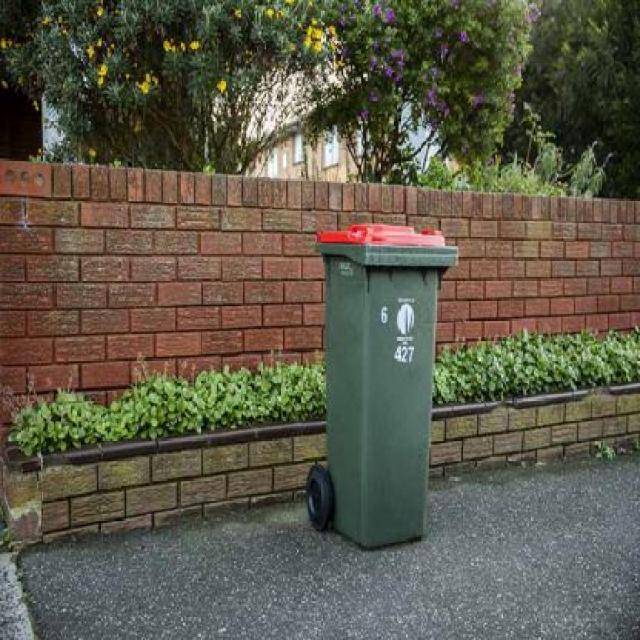garbage container: (305, 214, 467, 568)
